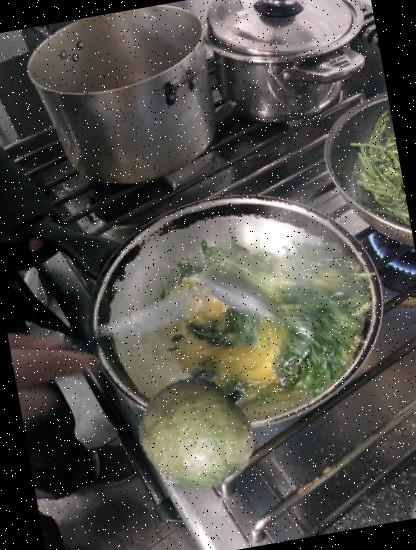Limes: (131, 364, 268, 502)
